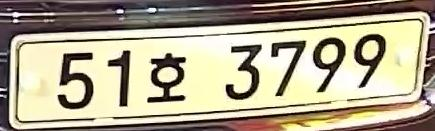1: (103, 46, 139, 112)
3: (221, 40, 264, 103)
5: (53, 47, 100, 111)
7: (267, 37, 308, 99)
9: (350, 29, 391, 91), (309, 35, 349, 94)
호: (145, 50, 189, 106)
